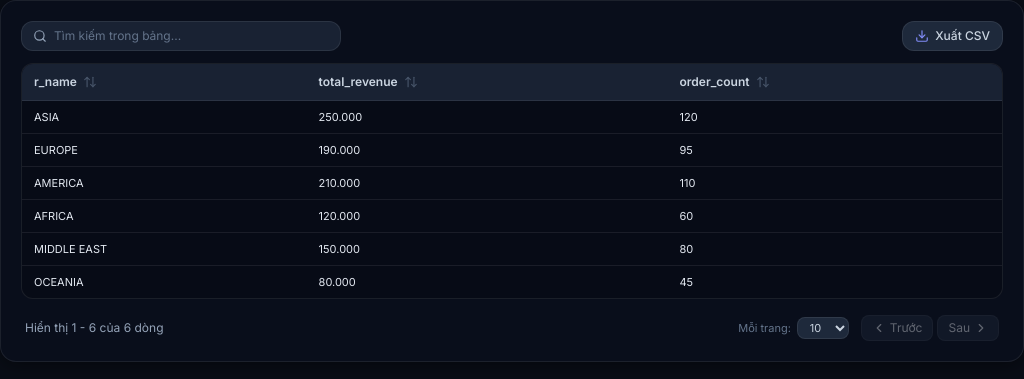
Component 4.3: DataTable › 3. Lọc nhanh dữ liệu qua ô tìm kiếm (Search filter)
Note: Nhập "EUROPE"
Type "EUROPE" into the field with placeholder "Tìm kiếm trong bảng..." at coordinates (181, 36), box [21,21,341,51]
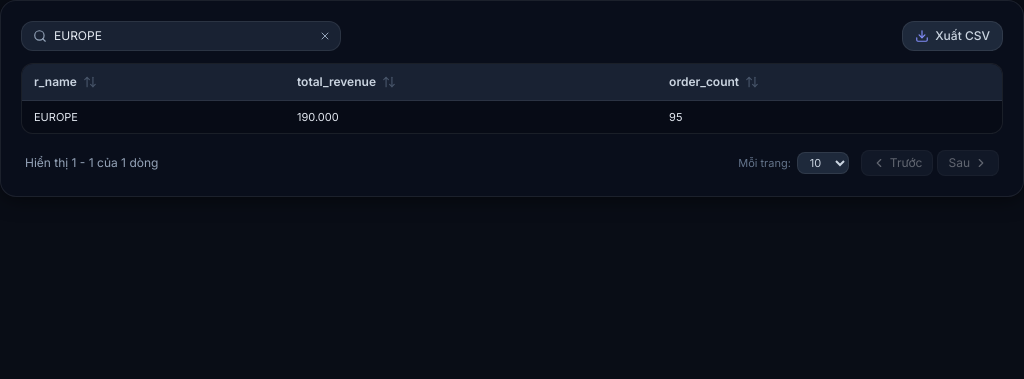
expect the text "EUROPE" is shown: met, box [22,100,285,133]
expect the text "ASIA" is gone: met
expect the text "AMERICA" is gone: met
